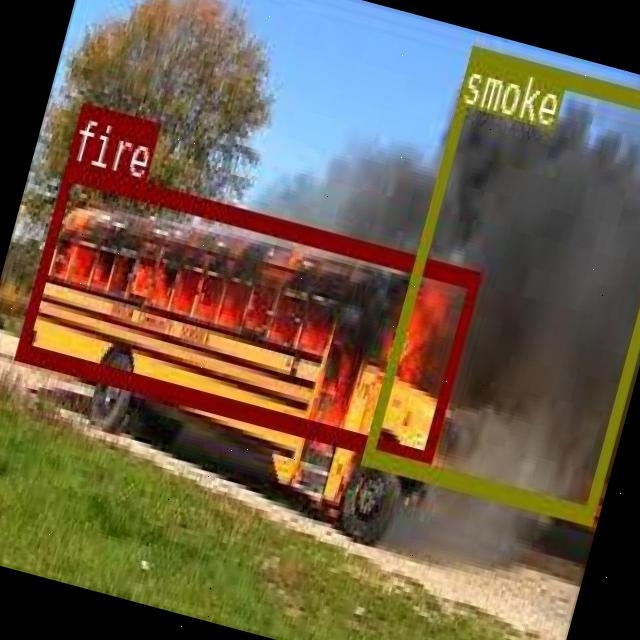fire: (13, 157, 480, 466)
smoke: (360, 44, 640, 522)
